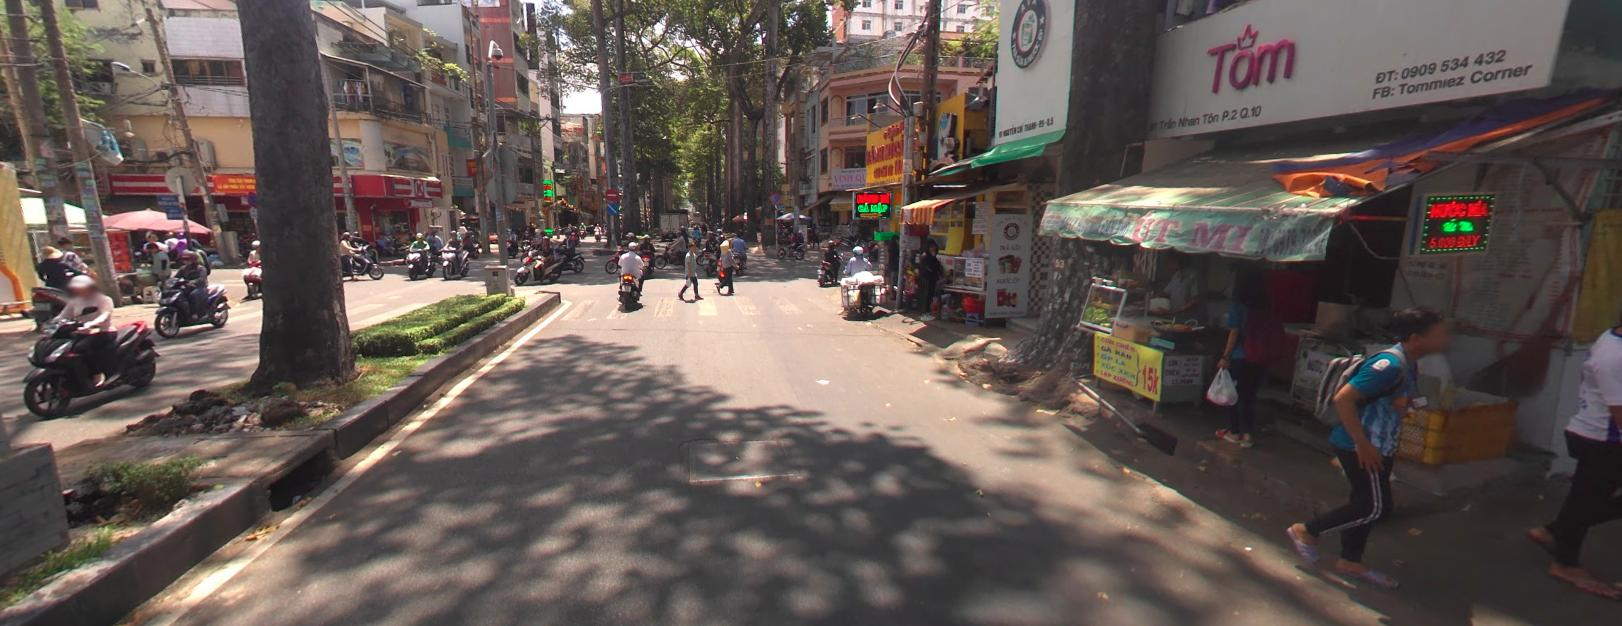Cam dung va do: (245, 190, 258, 206), (769, 190, 781, 204)
Cam nguoc chieu: (605, 187, 617, 200)
Hieu lenh: (604, 200, 617, 213)
